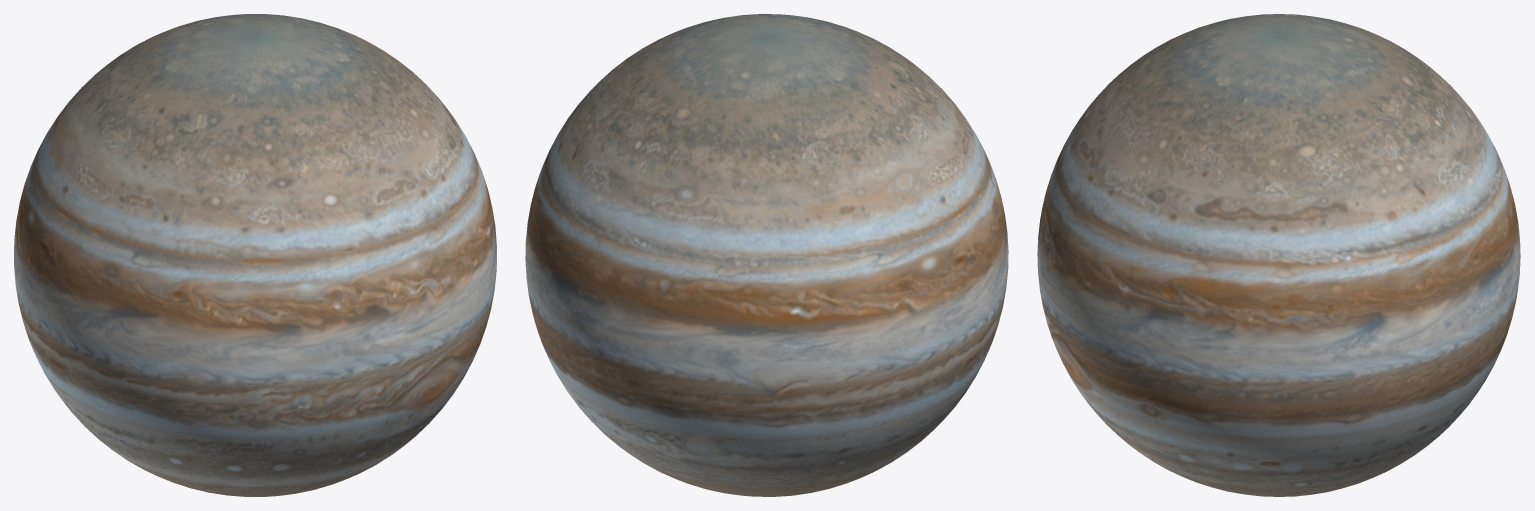
3 renders of one model, left to right at view 1: azimuth 30°, elevation 25°; view 2: azimuth 150°, elevation 25°; view 3: azimuth 270°, elevation 25°, orthographic.
Visible parts, largest first — view 1: Tierra.005; view 2: Tierra.005; view 3: Tierra.005.
Part boxes in pixels (box(x1,y1,x2,y2)): Tierra.005: box(14, 14, 496, 496); Tierra.005: box(525, 14, 1008, 496); Tierra.005: box(1037, 14, 1520, 496).
Bounding box in the file's own units: 18 × 18 × 18.
Materials: 1 (1 with a texture image).
